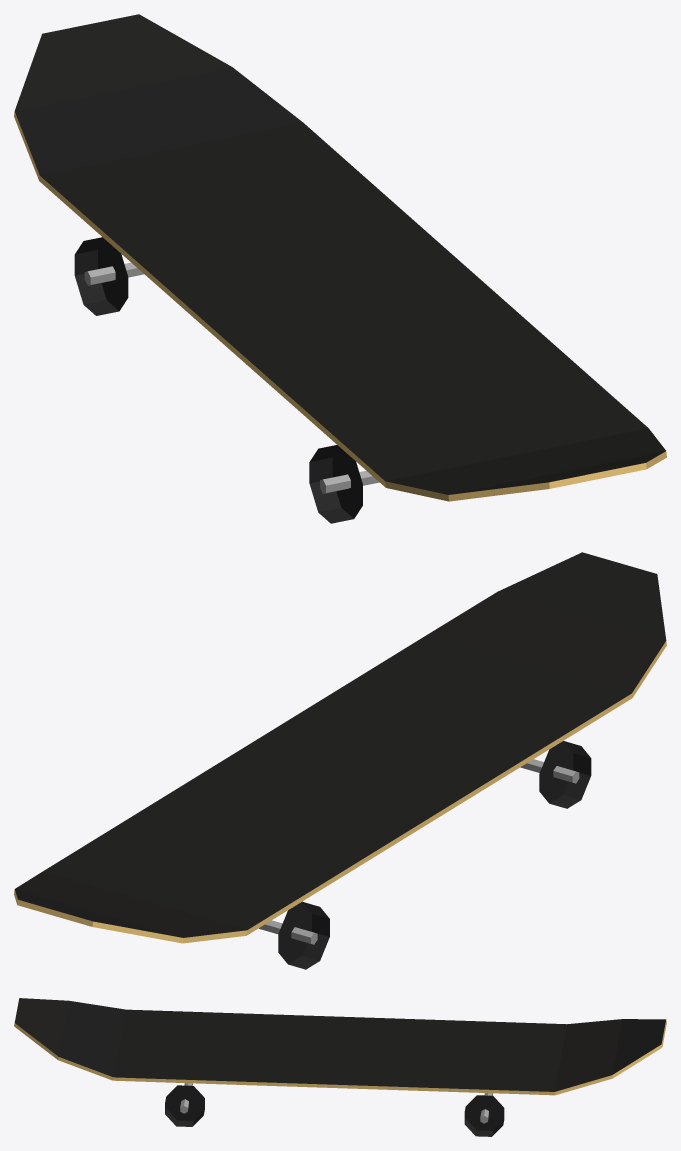
File: SkateboardJumpAnim.fbx
3 views of the same model, one above another, from view 1: azimuth 30°, elevation 25°; view 2: azimuth 150°, elevation 25°; view 3: azimuth 270°, elevation 25° (orthographic). The views are drawn at different scales.
Visible parts, largest first — view 1: Plane; view 2: Plane; view 3: Plane.
Part boxes in pixels (x1,y1,x2,y2): Plane: [14, 14, 666, 523]; Plane: [14, 552, 666, 969]; Plane: [14, 998, 666, 1136].
Size of the model in its own units: 130 by 38.92 by 16.81.
